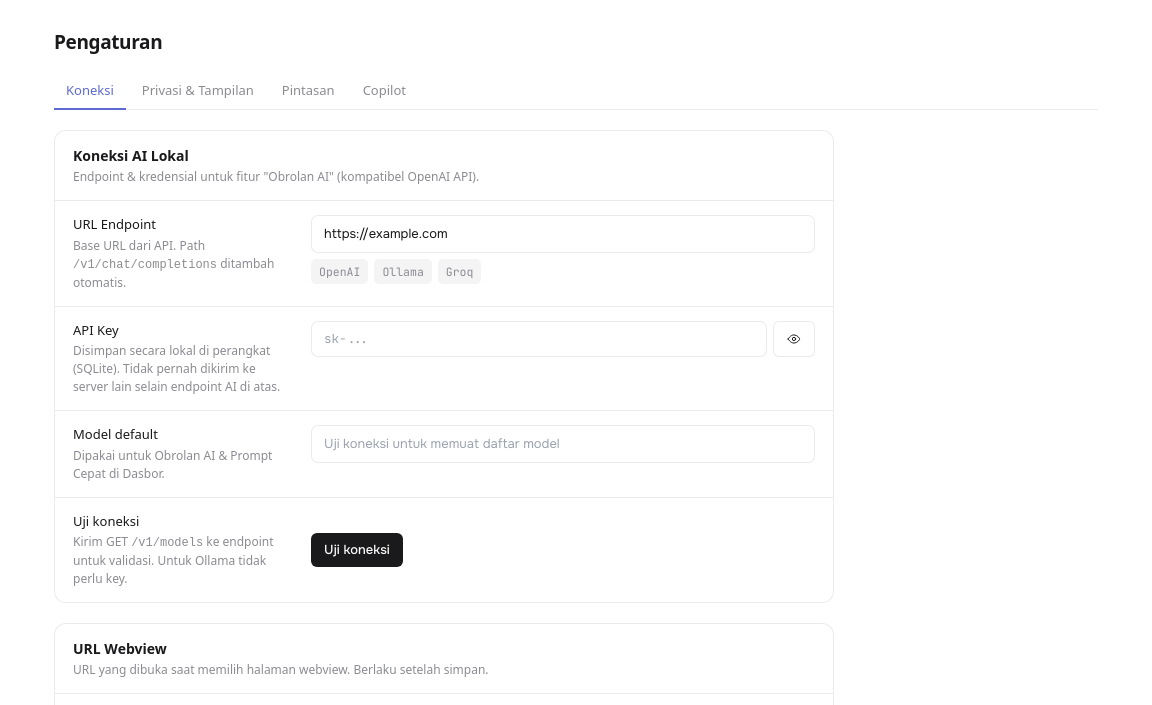
Test: AI model selection › opens the returned models without preselecting one, then selects a model
What coordinates should you click on to do the following:
click the button "Uji koneksi"
I would click on:
 (357, 550)
Its box is [311,533,403,566].
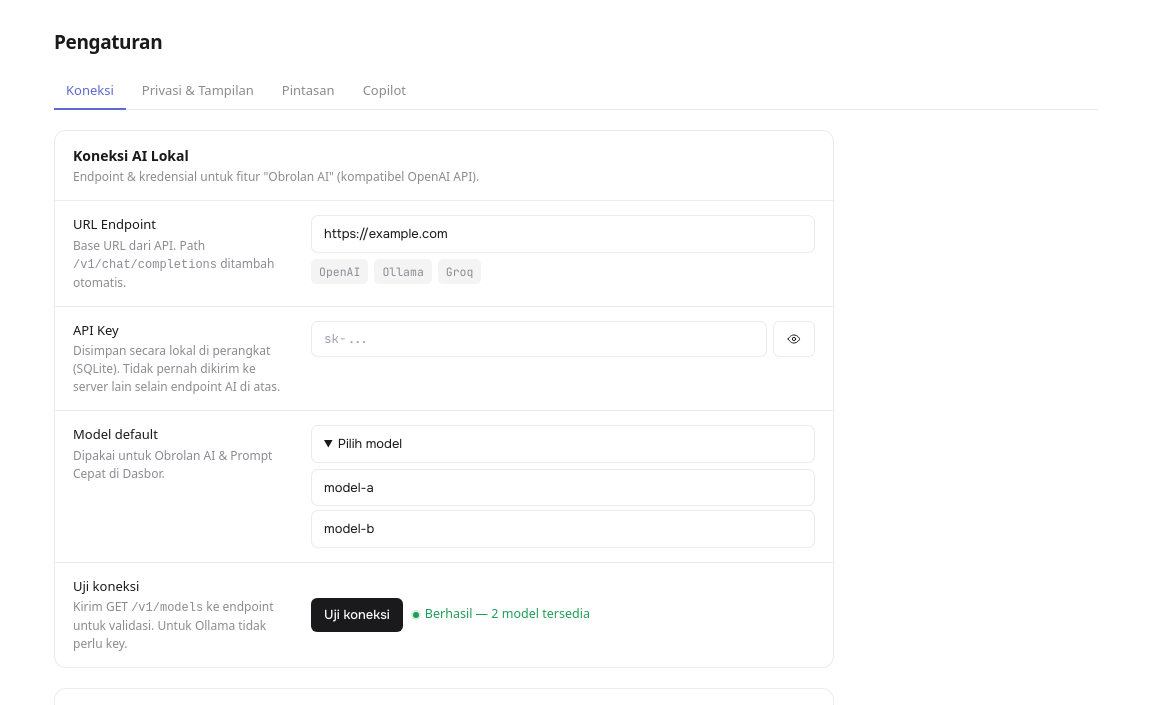
What coordinates should you click on to do the following:
click the button "model-b"
I would click on:
 (349, 528)
Its box is [311,510,815,548].
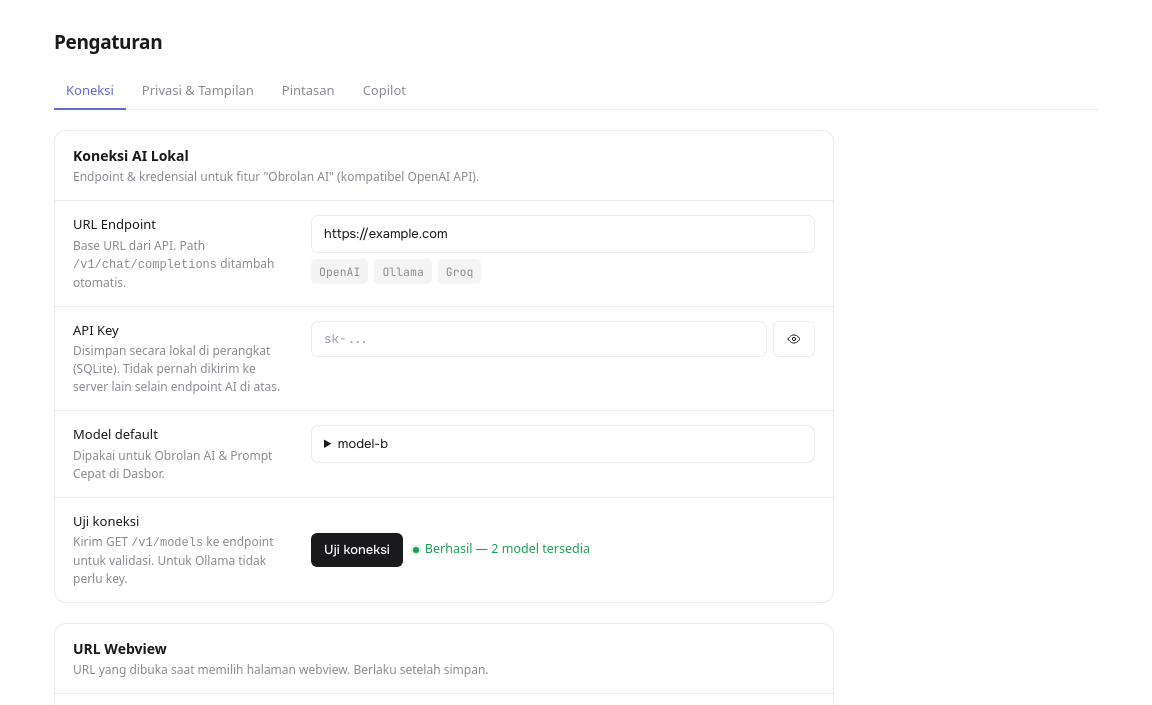
Expected: the heading "model-b" is shown, [311,425,815,462]
